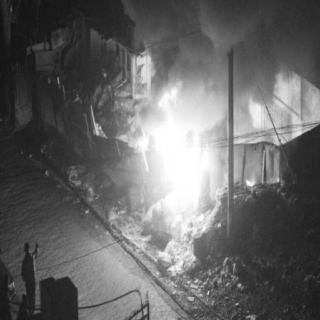Fire: (134, 102, 232, 220)
